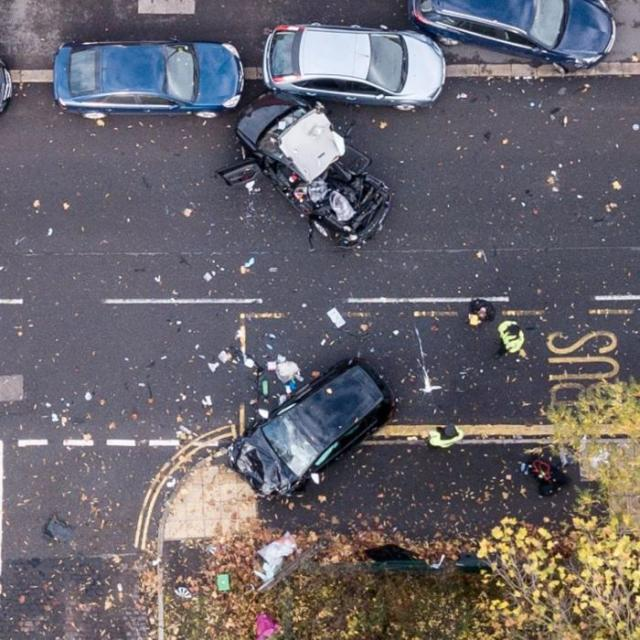traffic_incident: (228, 344, 396, 502), (222, 104, 394, 249)
